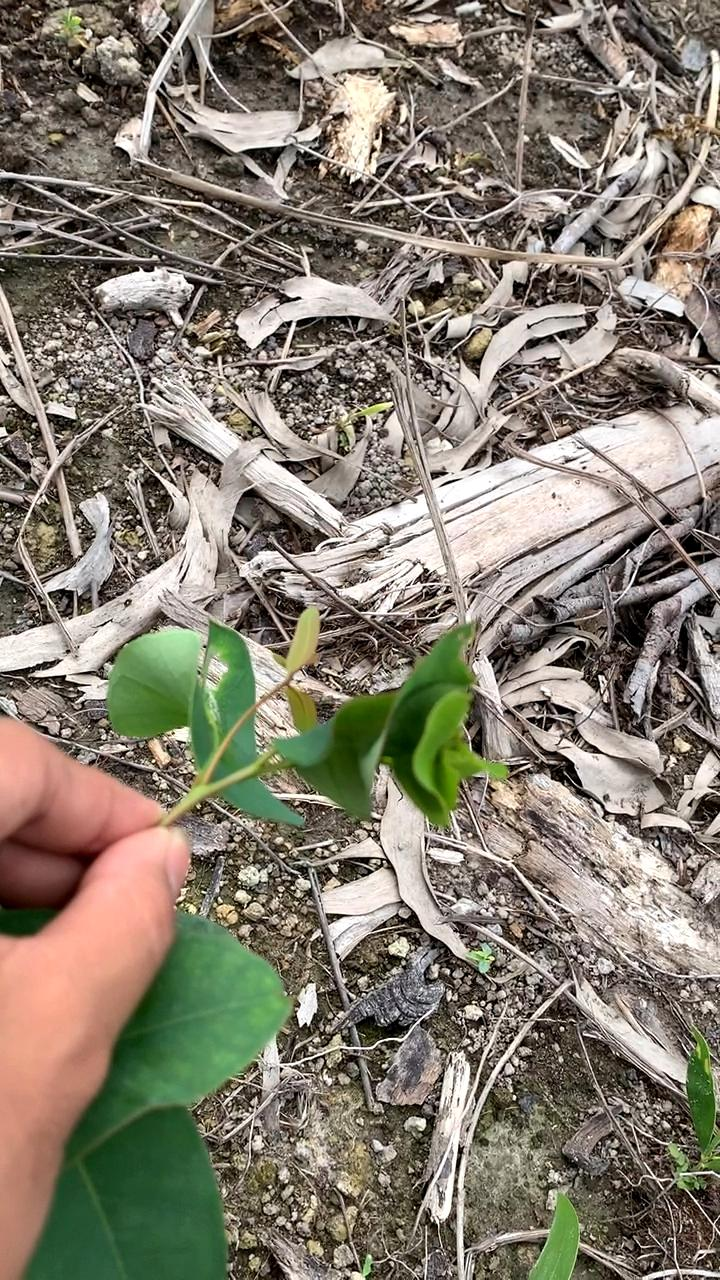Leaf Roller - Leaf: (285, 618, 513, 833)
